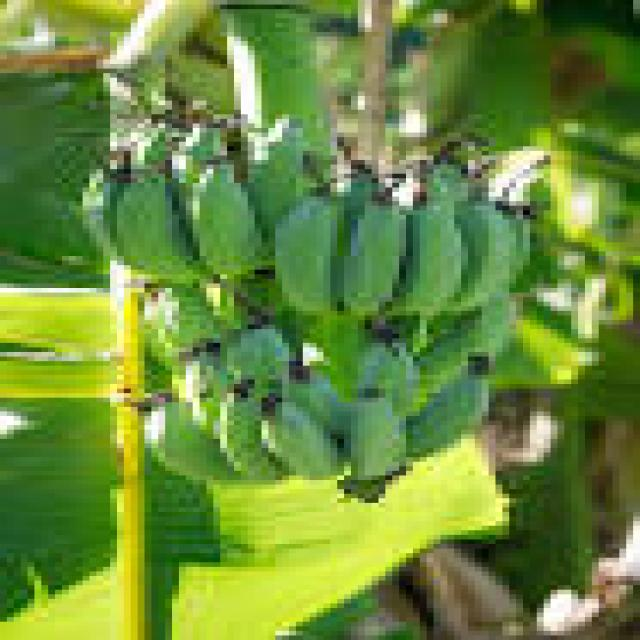banana: (393, 165, 467, 315), (420, 293, 516, 397), (186, 160, 268, 278), (117, 174, 199, 283), (276, 192, 344, 315), (338, 197, 406, 315), (448, 197, 516, 310), (407, 366, 488, 457), (145, 403, 240, 479), (248, 119, 309, 237), (262, 398, 344, 479), (221, 384, 289, 479), (145, 284, 227, 356), (345, 398, 406, 479), (358, 339, 419, 415), (283, 362, 344, 434), (179, 348, 233, 429), (83, 170, 130, 260), (228, 325, 295, 388), (338, 165, 378, 255), (173, 124, 227, 187), (496, 202, 529, 283), (131, 124, 178, 169)
